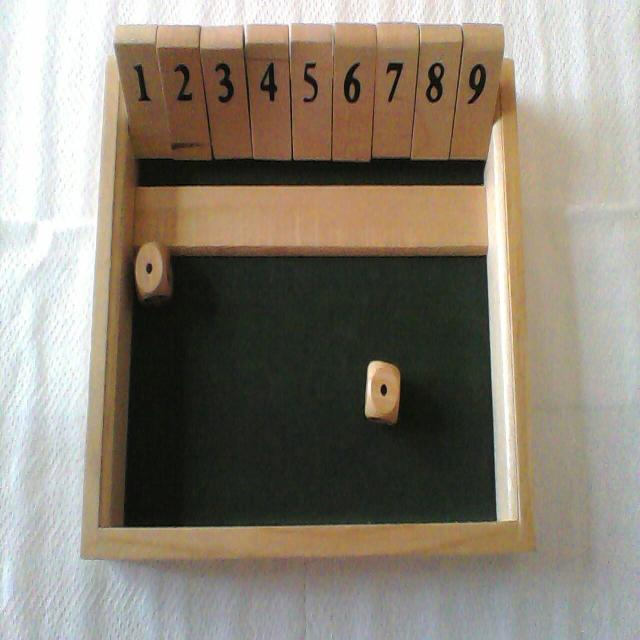1: (362, 356, 403, 432), (131, 242, 169, 303)
O1: (113, 23, 159, 248)
O2: (157, 26, 202, 258)
O3: (201, 25, 244, 257)
O4: (245, 24, 289, 256)
O5: (292, 23, 332, 256)
O6: (333, 24, 376, 257)
O7: (379, 24, 418, 256)
O8: (418, 23, 462, 256)
O9: (462, 21, 505, 256)
